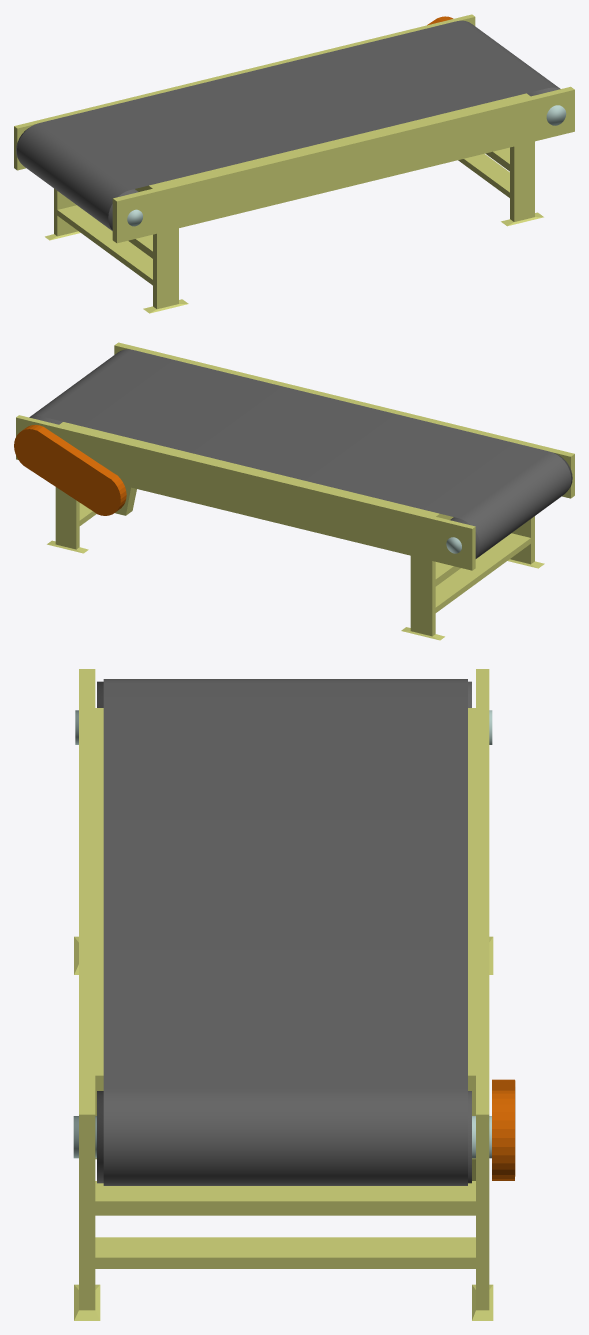
Rendered from Conveyor.fbx.
The picture shows the model from 3 angles, top to bottom: view 1: azimuth 30°, elevation 25°; view 2: azimuth 150°, elevation 25°; view 3: azimuth 270°, elevation 25°; orthographic projection. The views are drawn at different scales.
Parts seen in each view (by area): view 1: Conveyor; view 2: Conveyor, Cylinder.001; view 3: Conveyor, Cylinder.001.
Boxes of the visible parts, <box> form: Conveyor: <box>14,14,574,313</box>; Conveyor: <box>16,342,574,640</box>; Cylinder.001: <box>14,425,126,515</box>; Conveyor: <box>73,669,493,1320</box>; Cylinder.001: <box>492,1079,515,1180</box>.
Bounding box in the file's own units: 2303 × 577 × 956.
